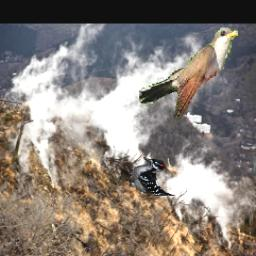Cuckoo: (140, 28, 239, 123)
Woodpecker: (130, 158, 180, 197)
